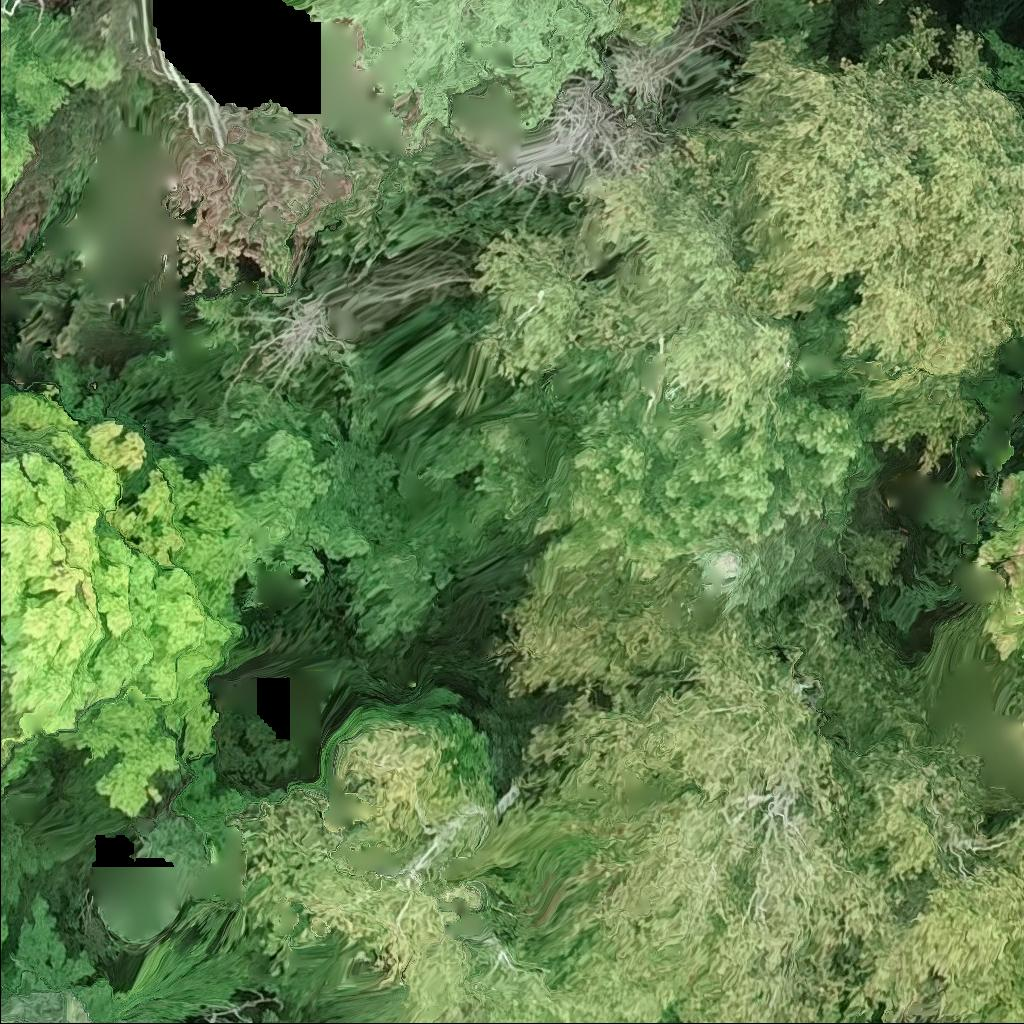crown: (732, 39, 1023, 435), (616, 0, 680, 38)
